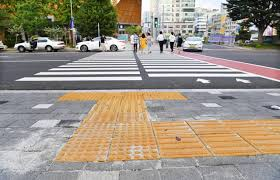guide_blocks: (50, 121, 280, 165), (87, 100, 147, 120), (61, 93, 183, 100)
